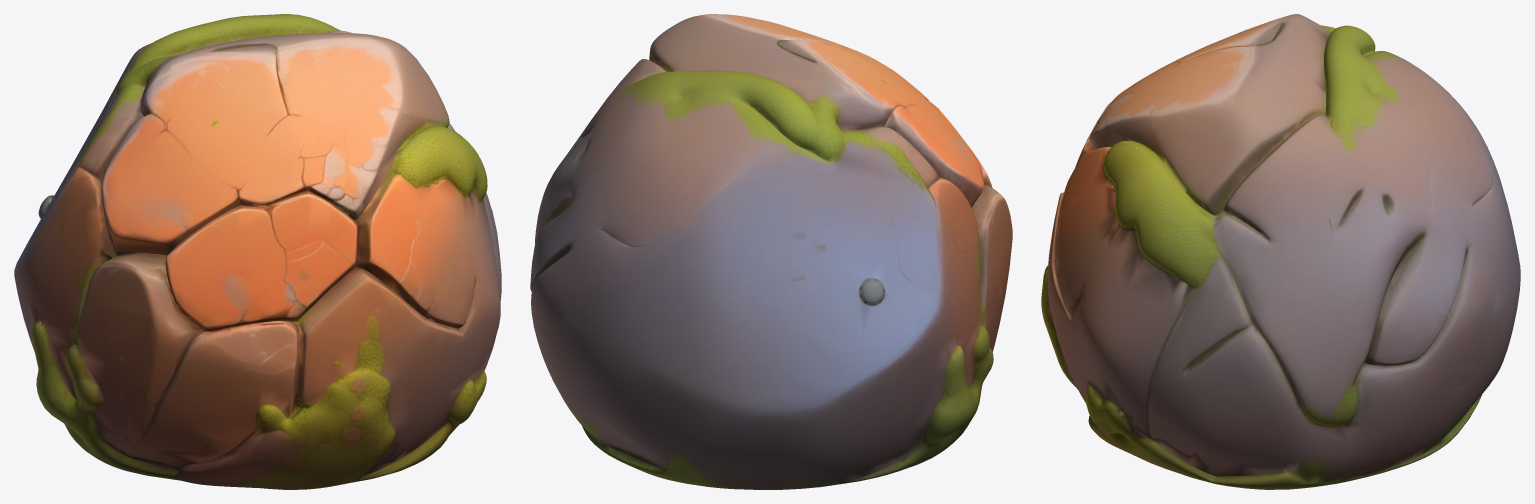
The model's file is rock.glb.
The picture shows the model from 3 angles, left to right: view 1: azimuth 30°, elevation 25°; view 2: azimuth 150°, elevation 25°; view 3: azimuth 270°, elevation 25°; orthographic projection. The views are drawn at different scales.
Parts seen in each view (by area): view 1: node_0; view 2: node_0; view 3: node_0.
Part boxes in pixels (x1,y1,x2,y2): node_0: (14,14,501,489); node_0: (530,14,1012,489); node_0: (1041,14,1520,489).
Size of the model in its own units: 1.03 by 0.8558 by 1.02.
1 material, 1 textured.
